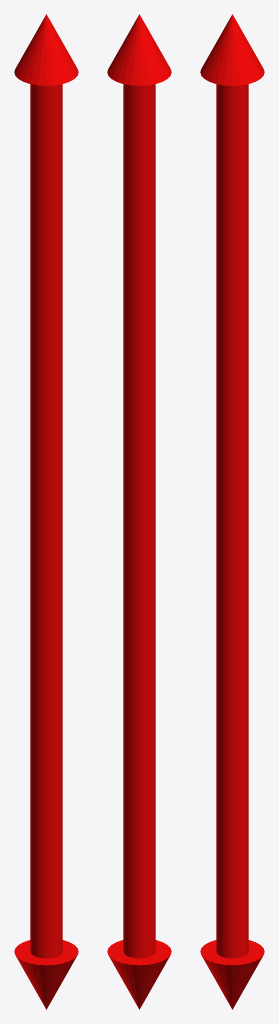
The model's file is red.dae.
The picture shows the model from 3 angles, left to right: view 1: azimuth 90°, elevation 25°; view 2: azimuth 150°, elevation 25°; view 3: azimuth 270°, elevation 25°; orthographic projection.
Parts seen in each view (by area): view 1: SketchUp, group_0, group_1; view 2: SketchUp, group_0, group_1; view 3: SketchUp, group_0, group_1.
Part boxes in pixels (left/top/right/bottom): SketchUp: left=30, top=84, right=62, bottom=958; group_0: left=14, top=14, right=78, bottom=85; group_1: left=14, top=940, right=78, bottom=1009; SketchUp: left=123, top=84, right=155, bottom=958; group_0: left=107, top=14, right=171, bottom=85; group_1: left=107, top=940, right=171, bottom=1009; SketchUp: left=216, top=84, right=248, bottom=958; group_0: left=200, top=14, right=264, bottom=85; group_1: left=200, top=940, right=264, bottom=1009.
Bounding box in the file's own units: 15.75 × 15.75 × 268.
